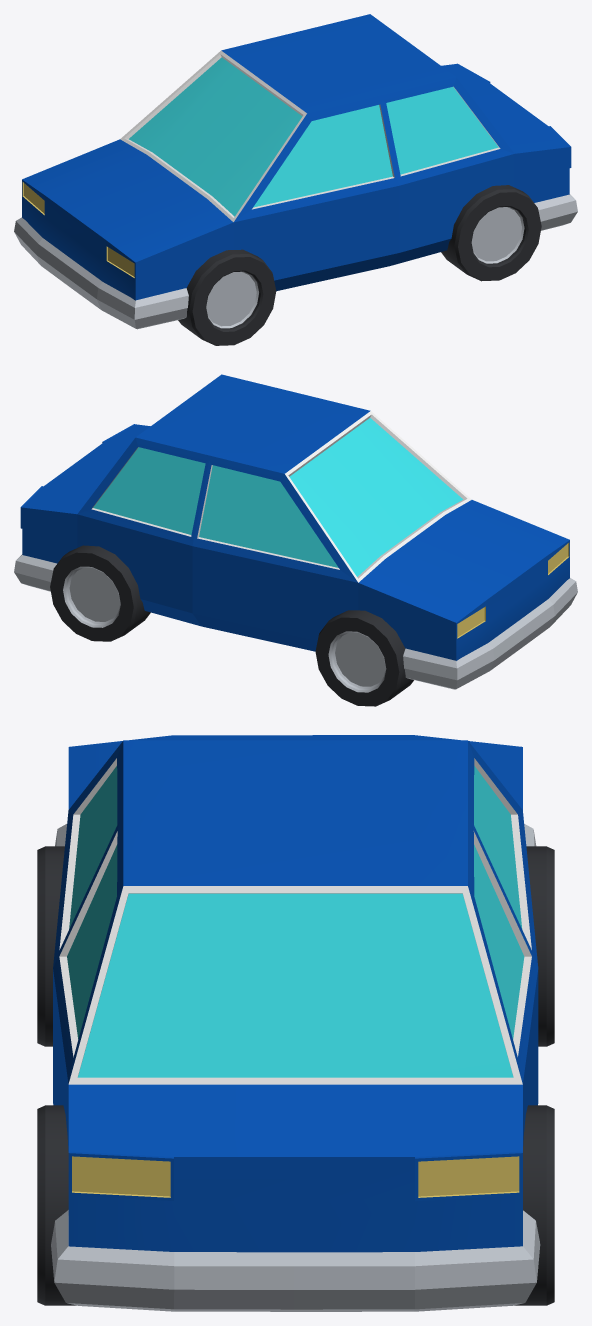
File: car_normal_2.fbx
3 renders of one model, top to bottom at view 1: azimuth 30°, elevation 25°; view 2: azimuth 150°, elevation 25°; view 3: azimuth 270°, elevation 25°, orthographic. The views are drawn at different scales.
Visible parts, largest first — view 1: car_normal; view 2: car_normal; view 3: car_normal.
Boxes of the visible parts, left/top/right/bottom form: car_normal: left=14, top=14, right=577, bottom=345; car_normal: left=14, top=374, right=577, bottom=706; car_normal: left=37, top=735, right=554, bottom=1311.
Size of the model in its own units: 6.93 by 2.83 by 3.39.
